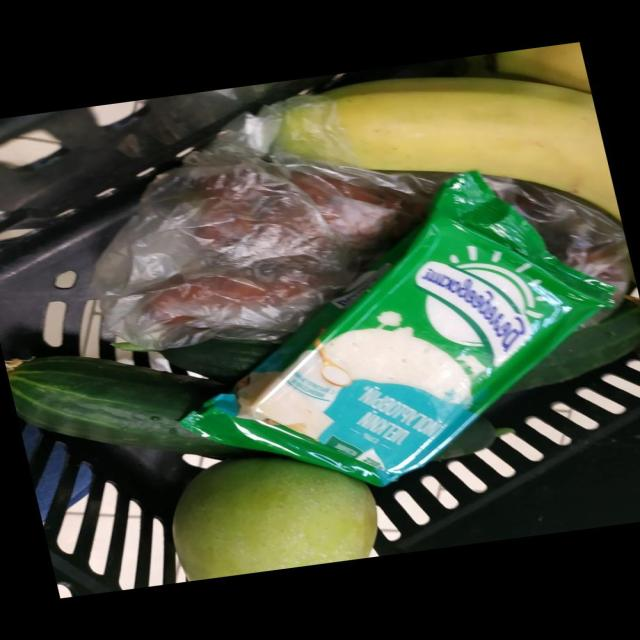Apple: (172, 458, 376, 581)
Banana: (276, 77, 622, 224), (486, 42, 592, 93)
Carrot: (143, 276, 266, 333)
Cheese: (181, 171, 613, 485)
Cucumber: (5, 356, 255, 459), (509, 303, 640, 392), (161, 338, 279, 383), (435, 417, 512, 460)
